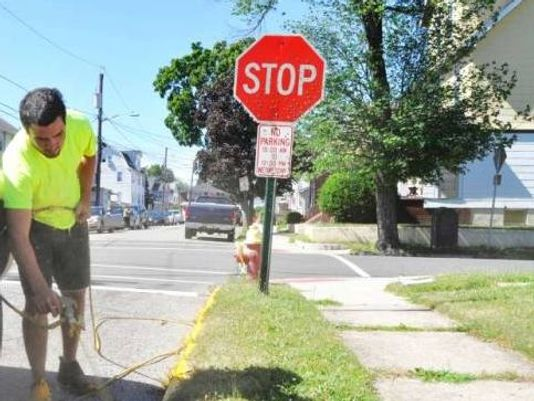stopsign: (232, 34, 327, 122)
